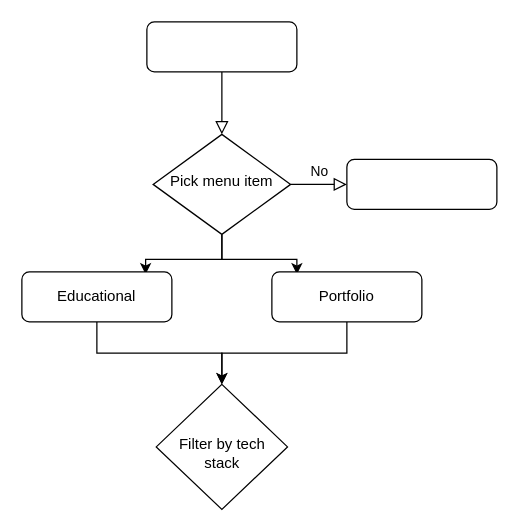
This 519x531 diagram has some shape labels left out. The centre of each missing label's shape, as x and y in pixels:
Landing Page: point (221, 46)
Scroll: point (421, 183)
